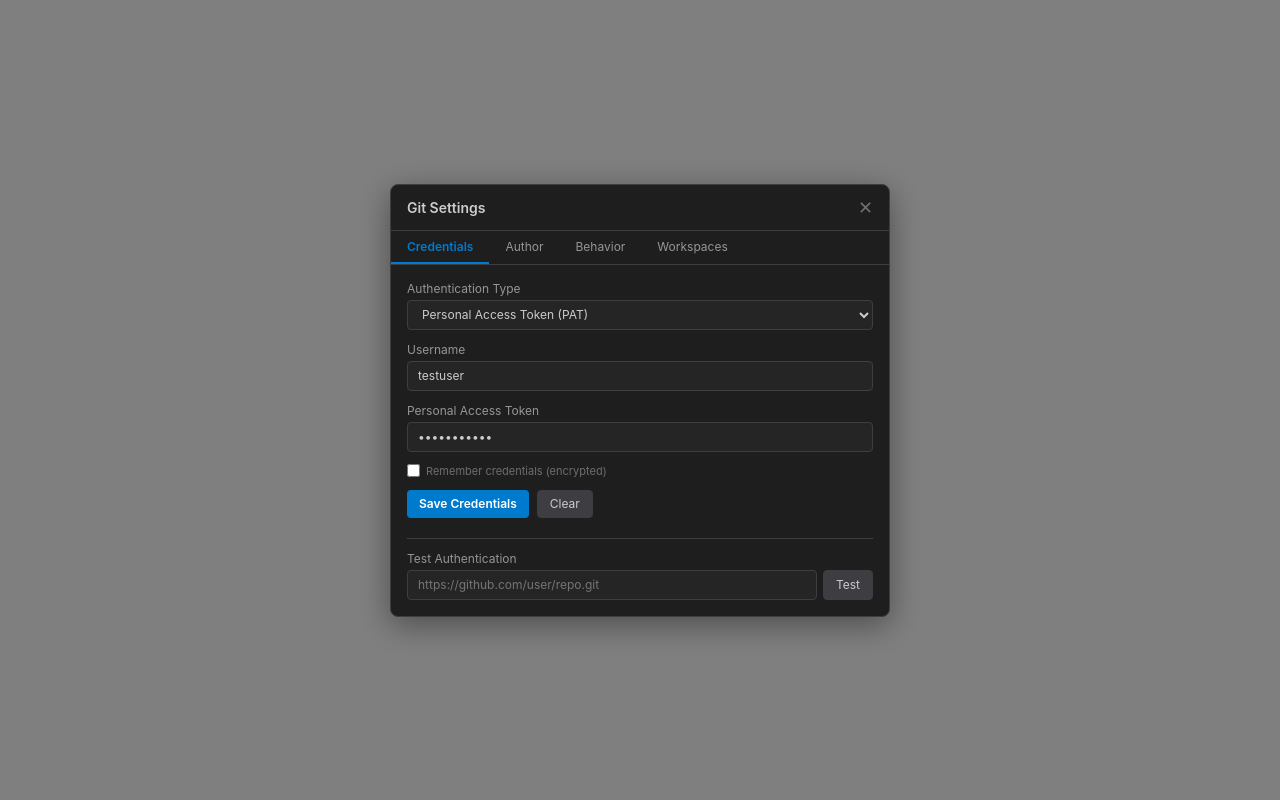
Test: GitSettingsViewPresenter › Author tab › shows Author Name and Email inputs with pre-filled values
Click the text "Author". click: {"x": 524, "y": 246}
box: [505,238,544,254]
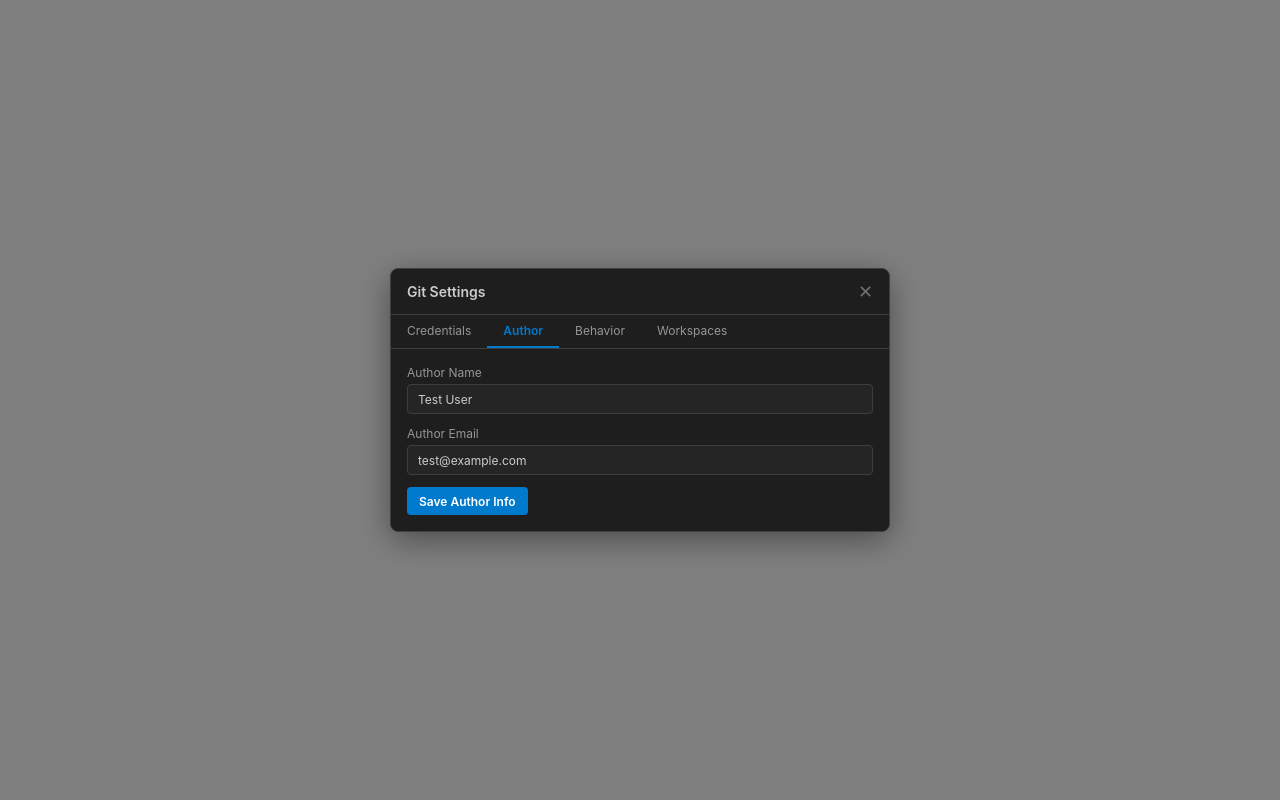
Check: the field showing "Test User" below "Author Name" is shown, box [407,384,873,414]
Check: the field showing "test@example.com" below "Author Email" is shown, box [407,445,873,475]
